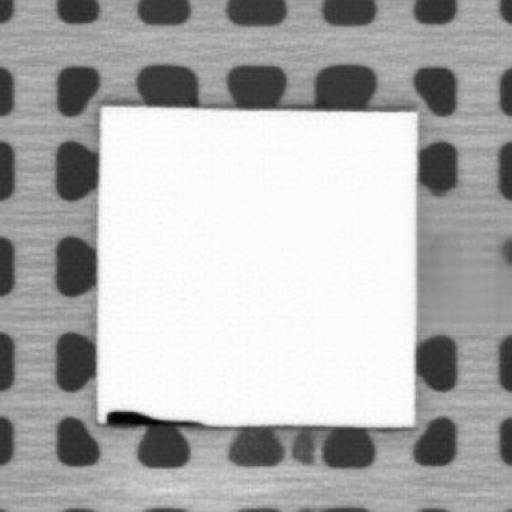DIE_BROKEN: (102, 407, 202, 427)
